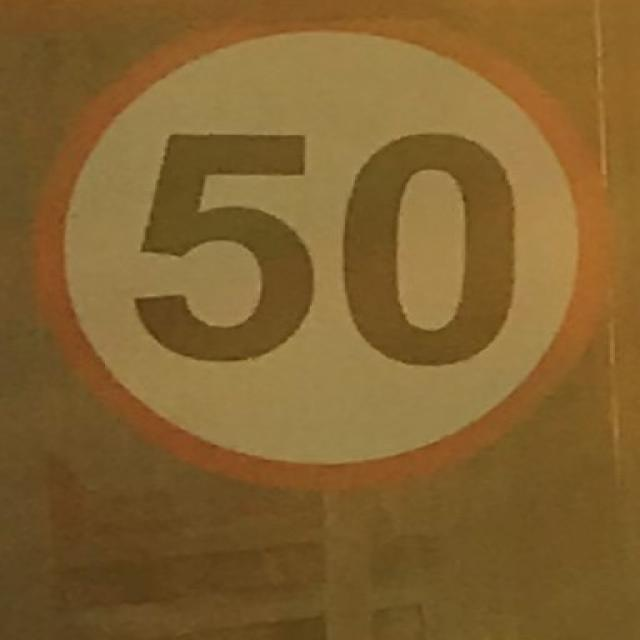Limite-50: (27, 4, 614, 497)
